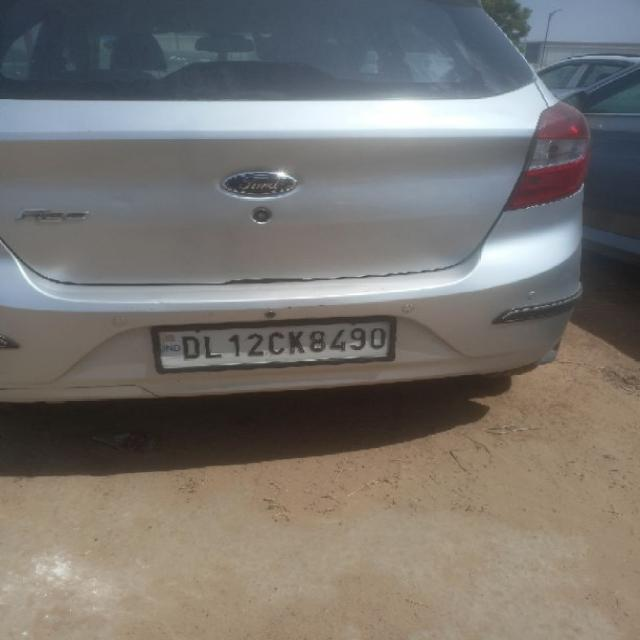license_plate: (150, 314, 396, 372)
